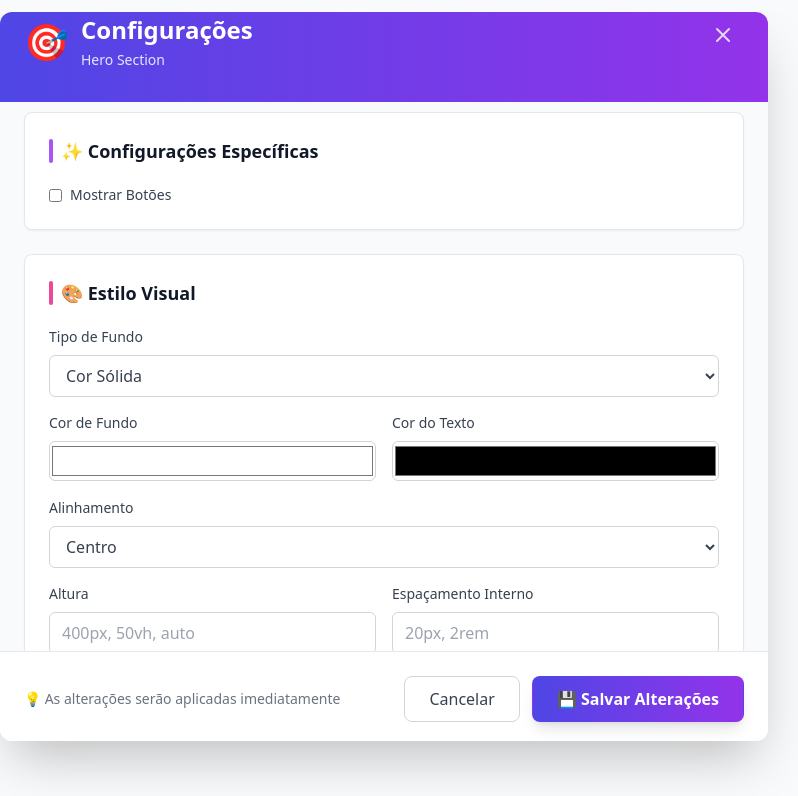
Scenario: ComponentSettings › troca entre tipos de fundo e mostra os campos corretos
(page scrolled)
Select "Degradê" in the dropdown showing "Cor Sólida" below "Tipo de Fundo" at (384, 376), box [49,355,719,397]
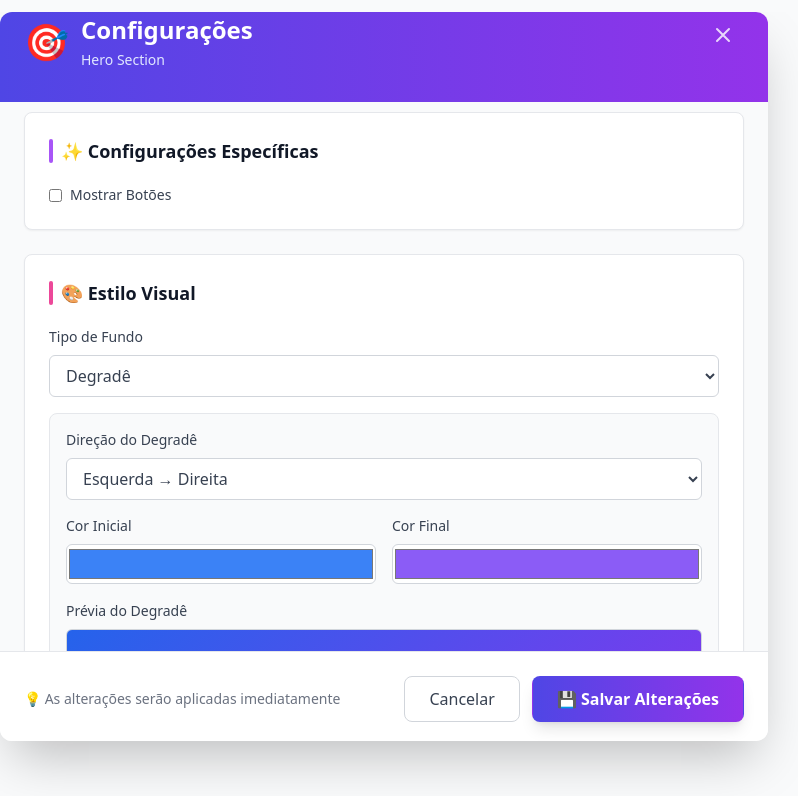
expect the text "Direção do Degradê" is shown: met, box [66,430,197,449]
expect the text "Prévia do Degradê" is shown: met, box [66,601,187,620]
Select "Imagem" in the dropdown showing "Degradê" below "Tipo de Fundo" at (384, 376), box [49,355,719,397]
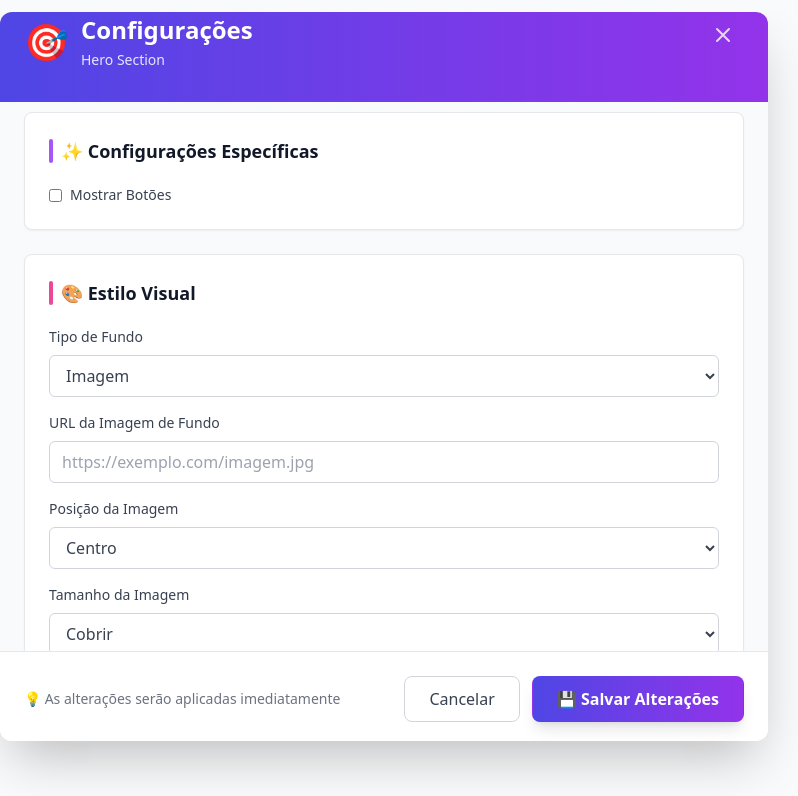
expect the text "URL da Imagem de Fundo" is shown: met, box [49,413,220,432]
expect the text "Posição da Imagem" is shown: met, box [49,499,178,518]
expect the text "Tamanho da Imagem" is shown: met, box [49,585,189,604]
